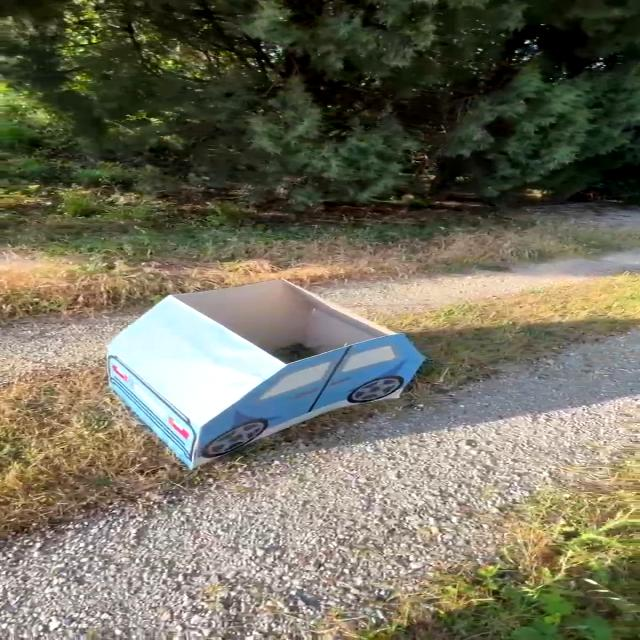blue_car: (43, 266, 462, 488)
